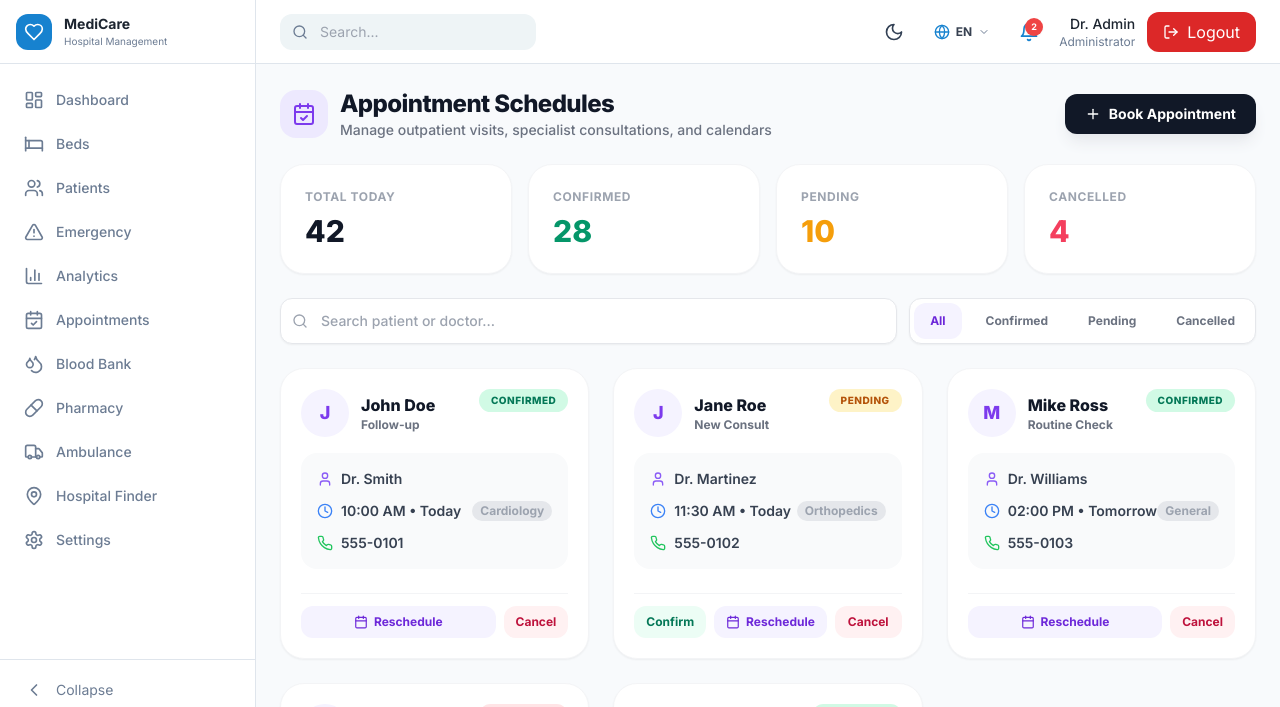
Scenario: AppointmentBookingPage Reschedule UI & Acceptance Criteria › staff can choose a new date and time, and change appears in the appointment list immediately
# Open reschedule modal for Mike Ross (id: 3, Dr. Williams)
Step 1. Click the button with test id "reschedule-btn-3" → {"x": 1065, "y": 622}, box [968, 606, 1162, 638]
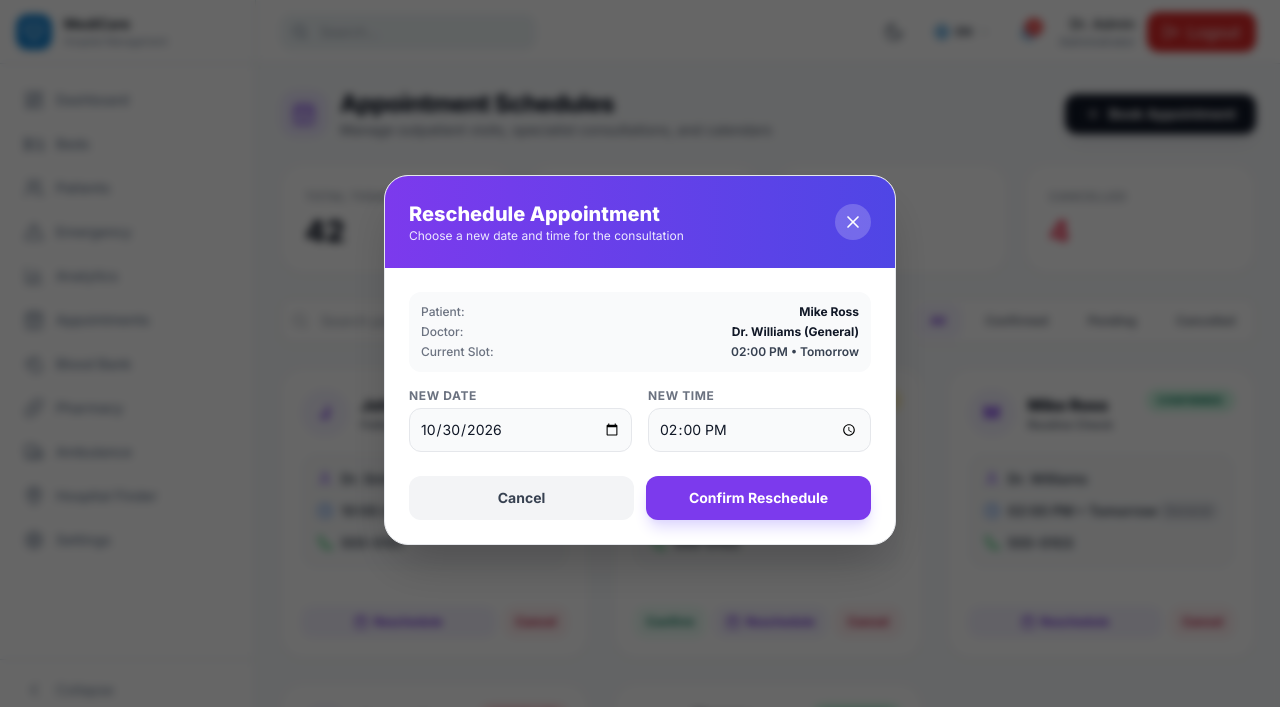
Expected: the heading "Reschedule Appointment" is shown, [409, 200, 684, 228]
Step 2. Type "2026-11-20" into the date field labelled "New Date" → {"x": 520, "y": 430}, box [409, 408, 632, 452]
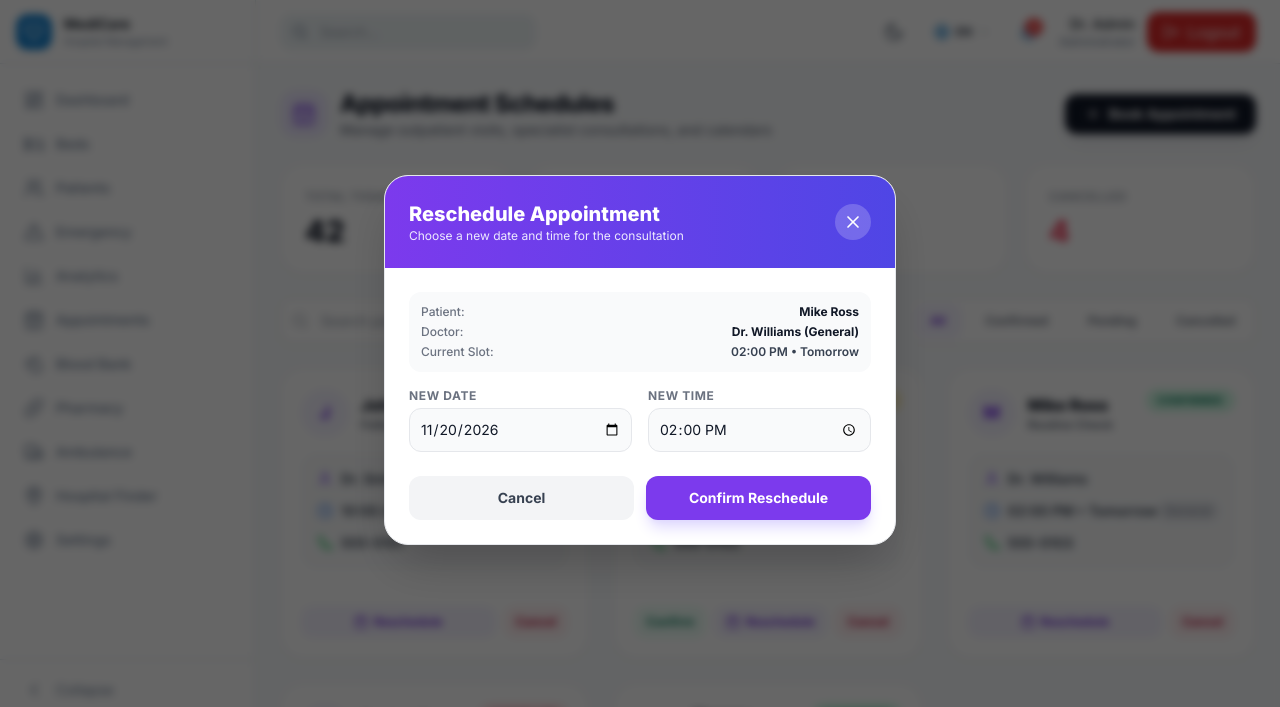
Step 3. Replace the text in the time field labelled "New Time" with "15:30" → {"x": 760, "y": 430}, box [648, 408, 871, 452]
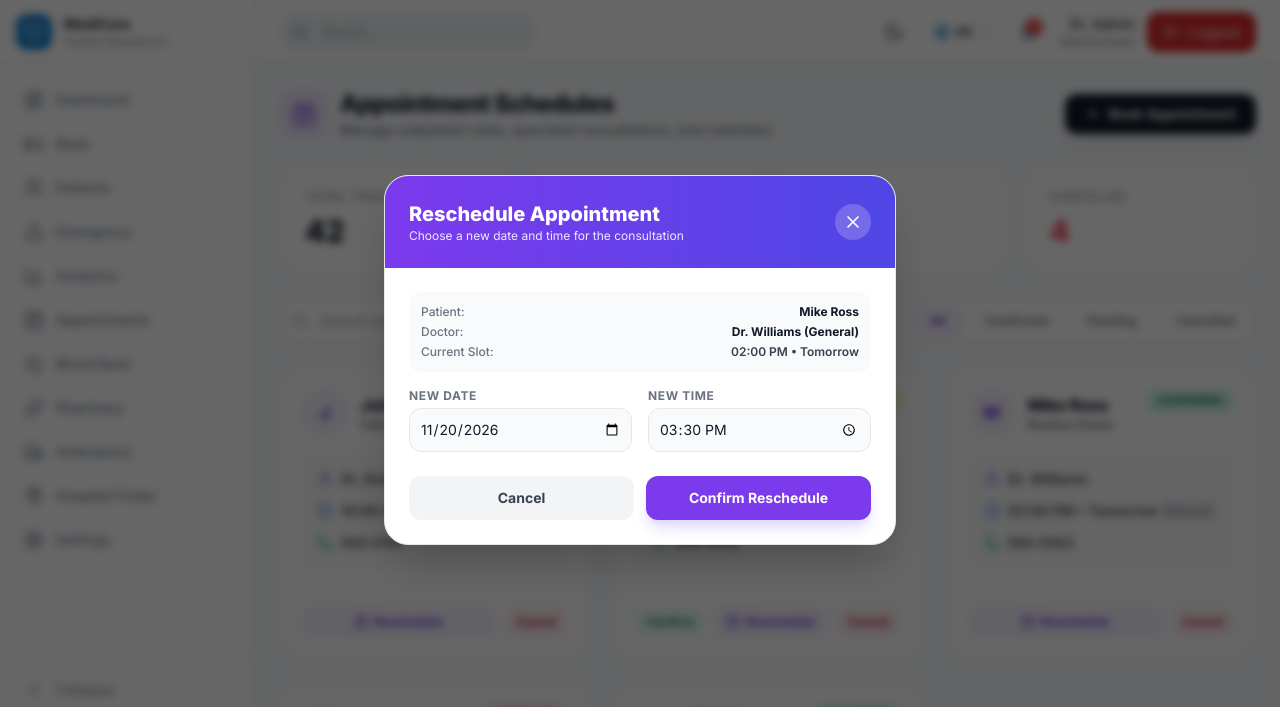
# Submit reschedule form
Step 4. Click the button with test id "confirm-reschedule-button" → {"x": 758, "y": 498}, box [646, 476, 871, 520]
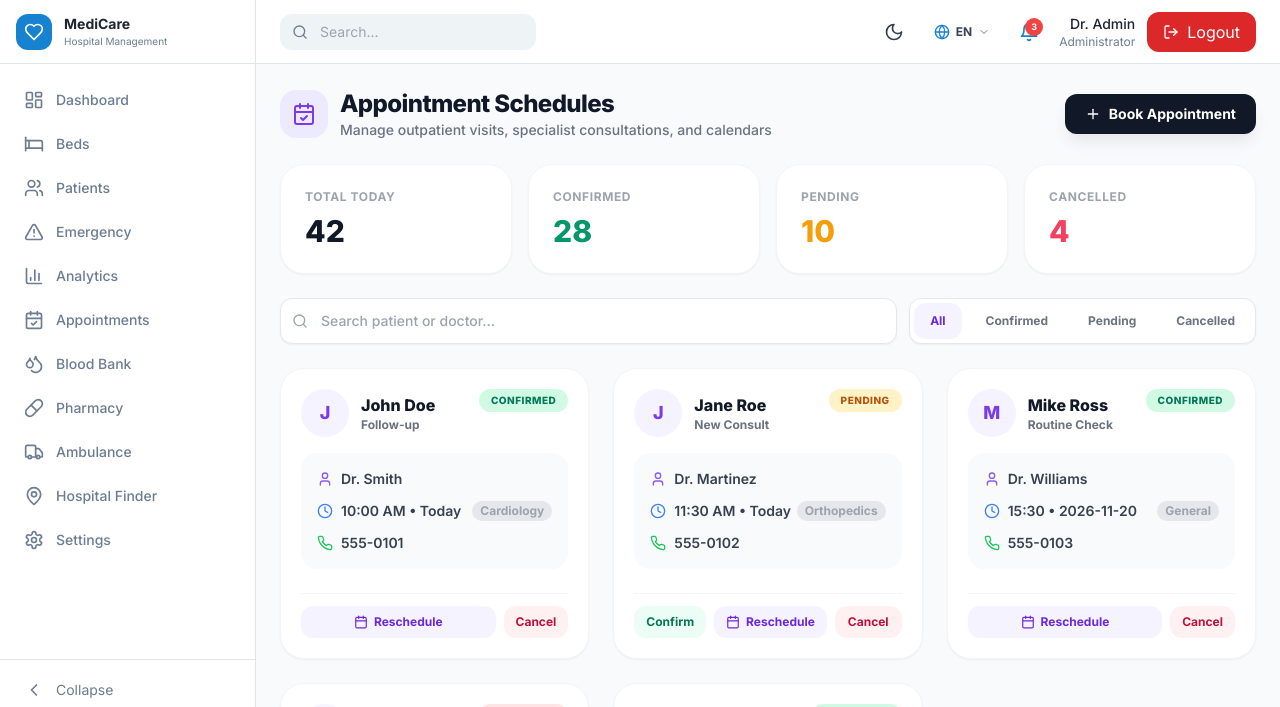
Expected: the heading "Mike Ross" is shown, [1028, 393, 1113, 417]
Expected: the heading "Reschedule Appointment" is gone
Expected: the text "15:30 • 2026-11-20" is shown, [1008, 501, 1137, 521]
